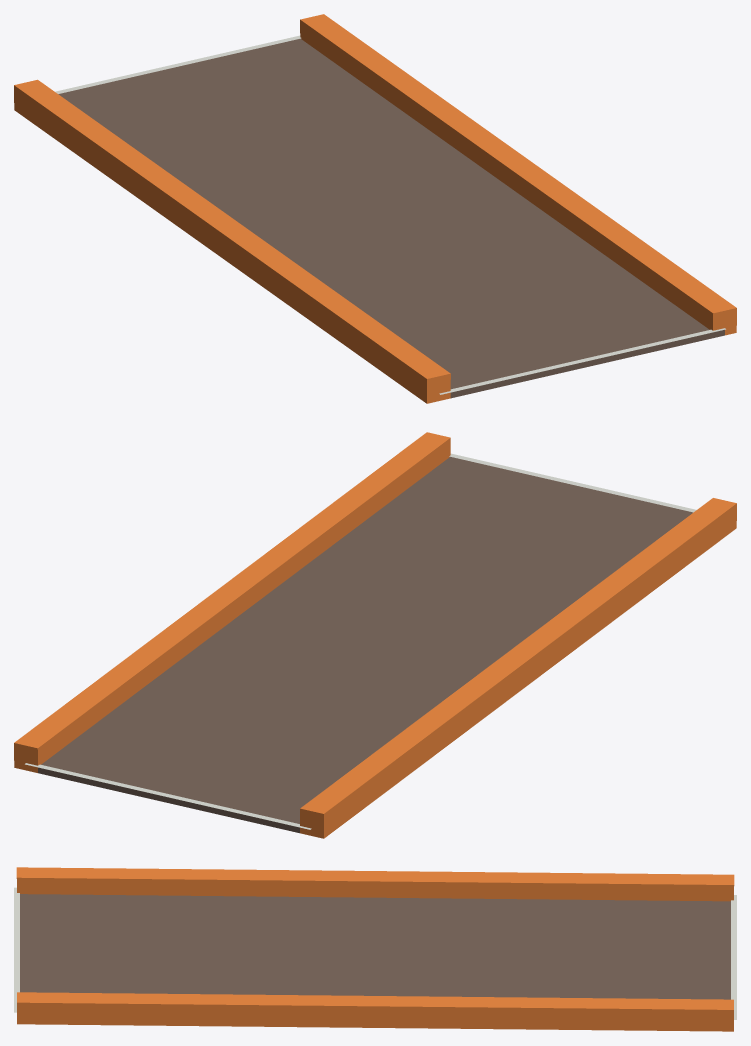
The model's file is SM_MP_Film_A_5_1.fbx.
3 views of the same model, one above another, from view 1: azimuth 30°, elevation 25°; view 2: azimuth 150°, elevation 25°; view 3: azimuth 270°, elevation 25° (orthographic). The views are drawn at different scales.
Parts seen in each view (by area): view 1: SM_MP_Film_A_5_1; view 2: SM_MP_Film_A_5_1; view 3: SM_MP_Film_A_5_1.
Boxes of the visible parts, box(x1,y1,x2,y2) form: SM_MP_Film_A_5_1: box(14, 14, 736, 403); SM_MP_Film_A_5_1: box(14, 432, 736, 838); SM_MP_Film_A_5_1: box(14, 867, 736, 1031).
Size of what is drawn, in the model's own units: 260 by 605 by 30.41.
